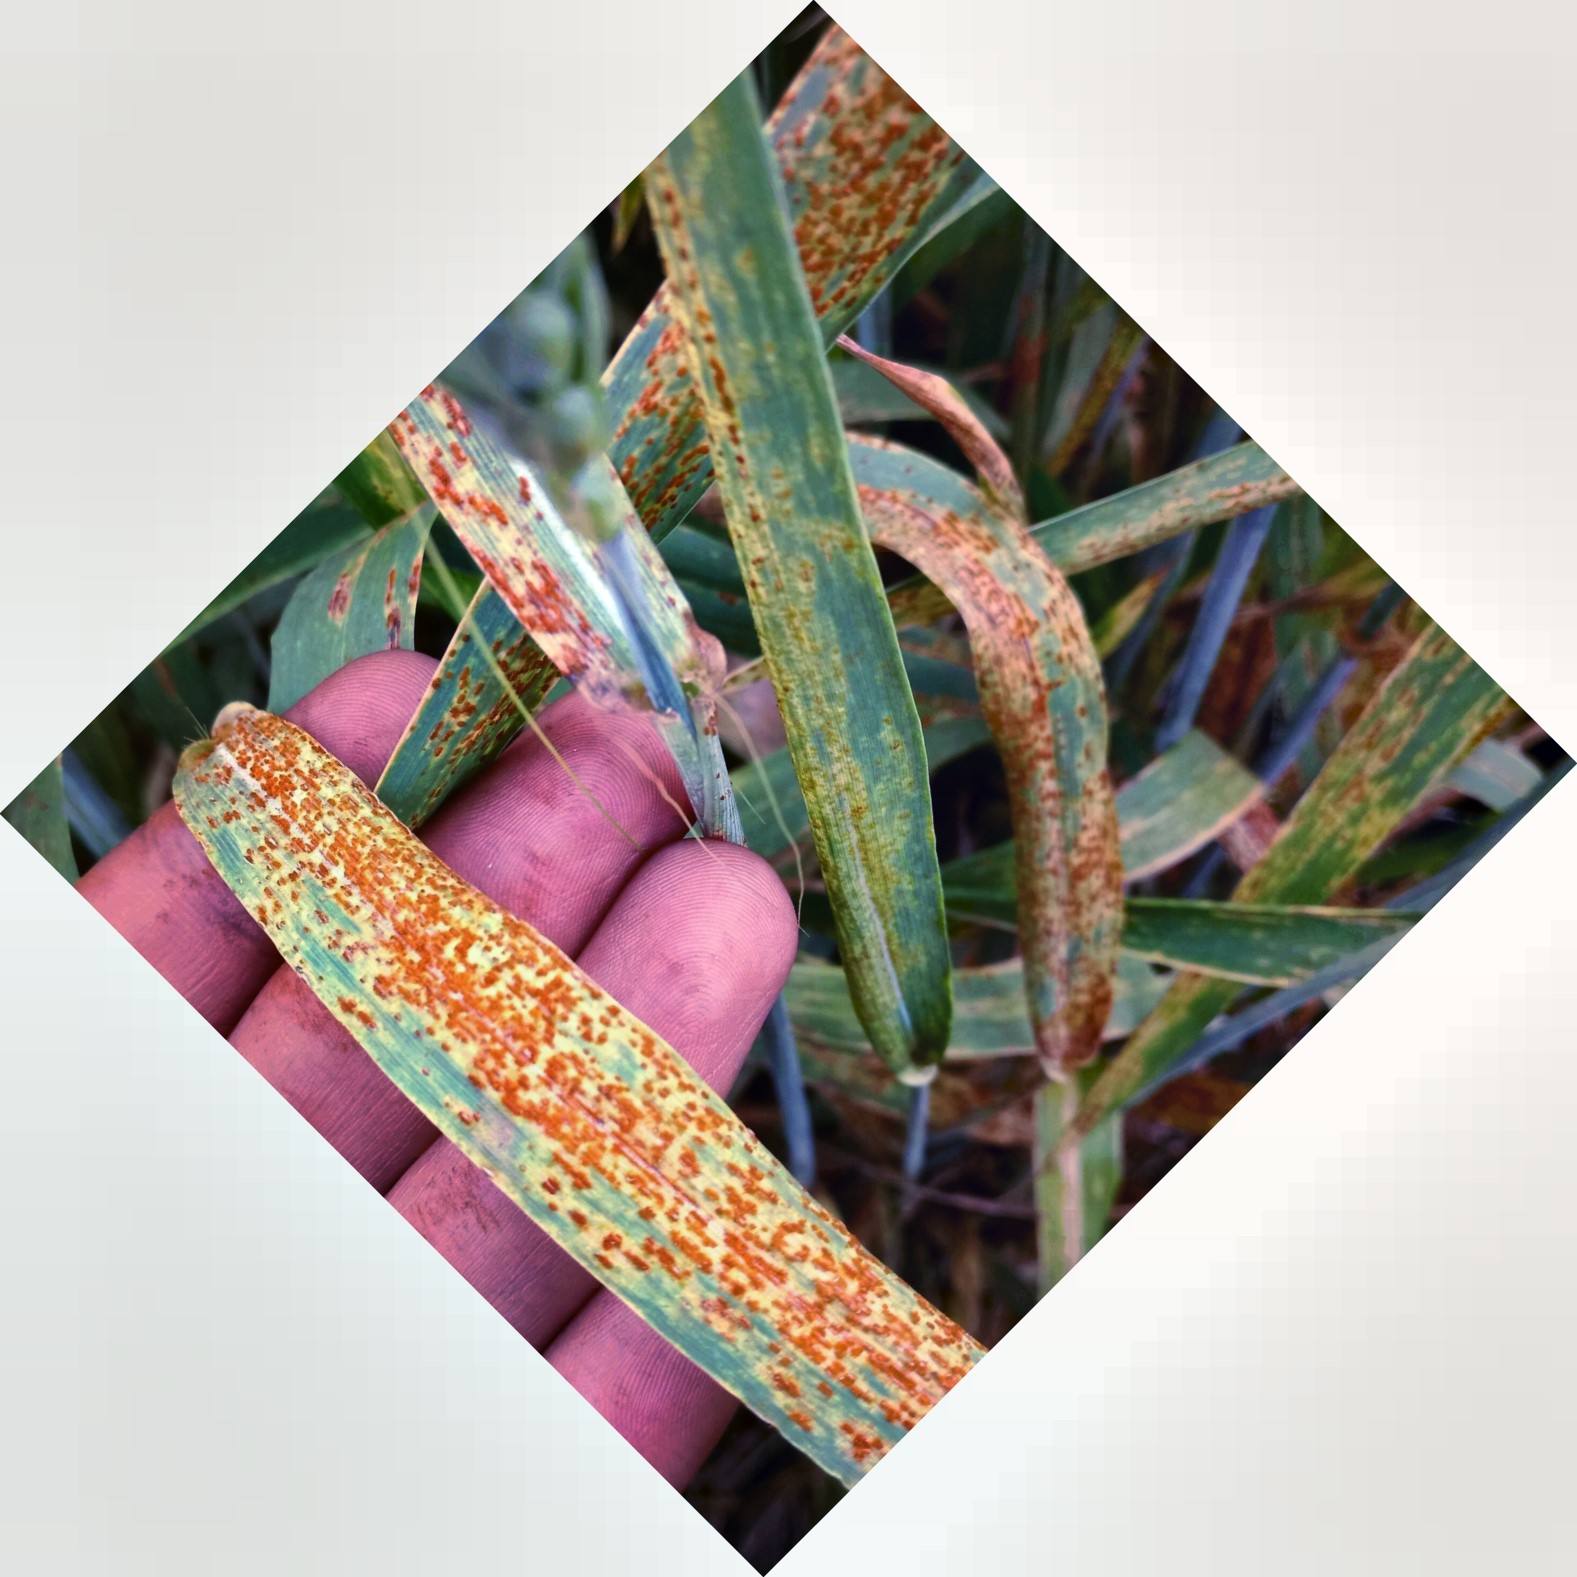Leaf Rust: (205, 761, 917, 1405)
